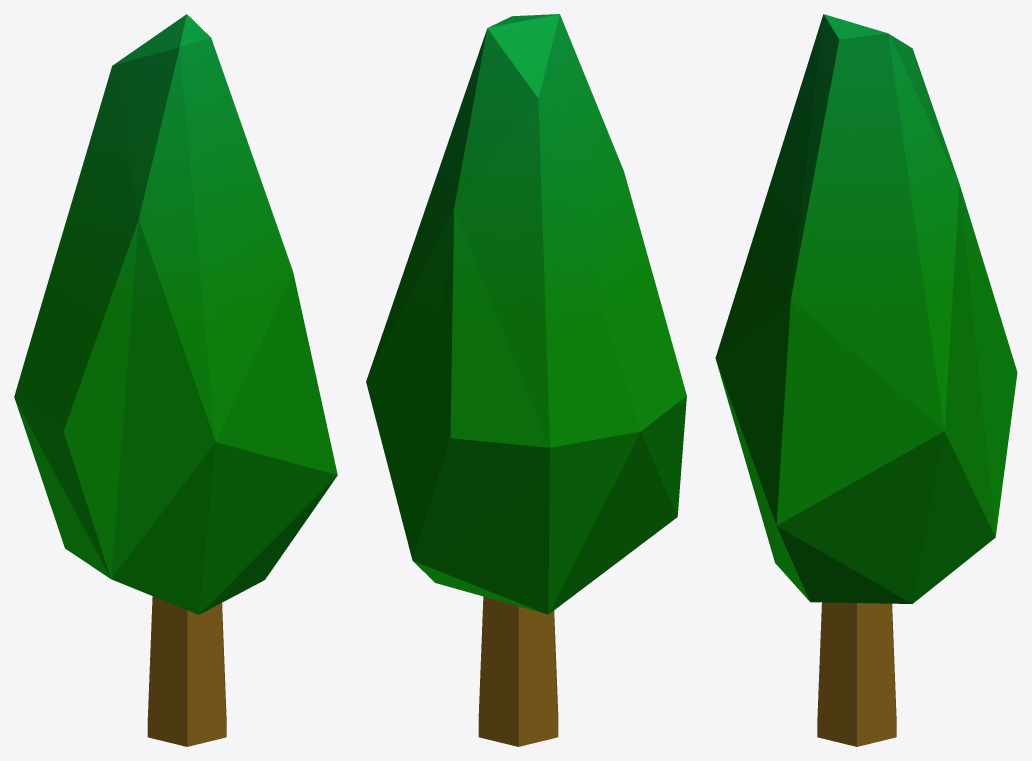
Rendered from Tree_04__1_.fbx.
3 views of the same model, side by side, from view 1: azimuth 30°, elevation 25°; view 2: azimuth 150°, elevation 25°; view 3: azimuth 270°, elevation 25° (orthographic).
Visible parts, largest first — view 1: Tree_04__1_; view 2: Tree_04__1_; view 3: Tree_04__1_.
Boxes of the visible parts, x1,y1,x2,y2 form: Tree_04__1_: (14,14,337,746); Tree_04__1_: (366,14,686,746); Tree_04__1_: (715,14,1017,746).
Bounding box in the file's own units: 5756 × 14928 × 5822.
